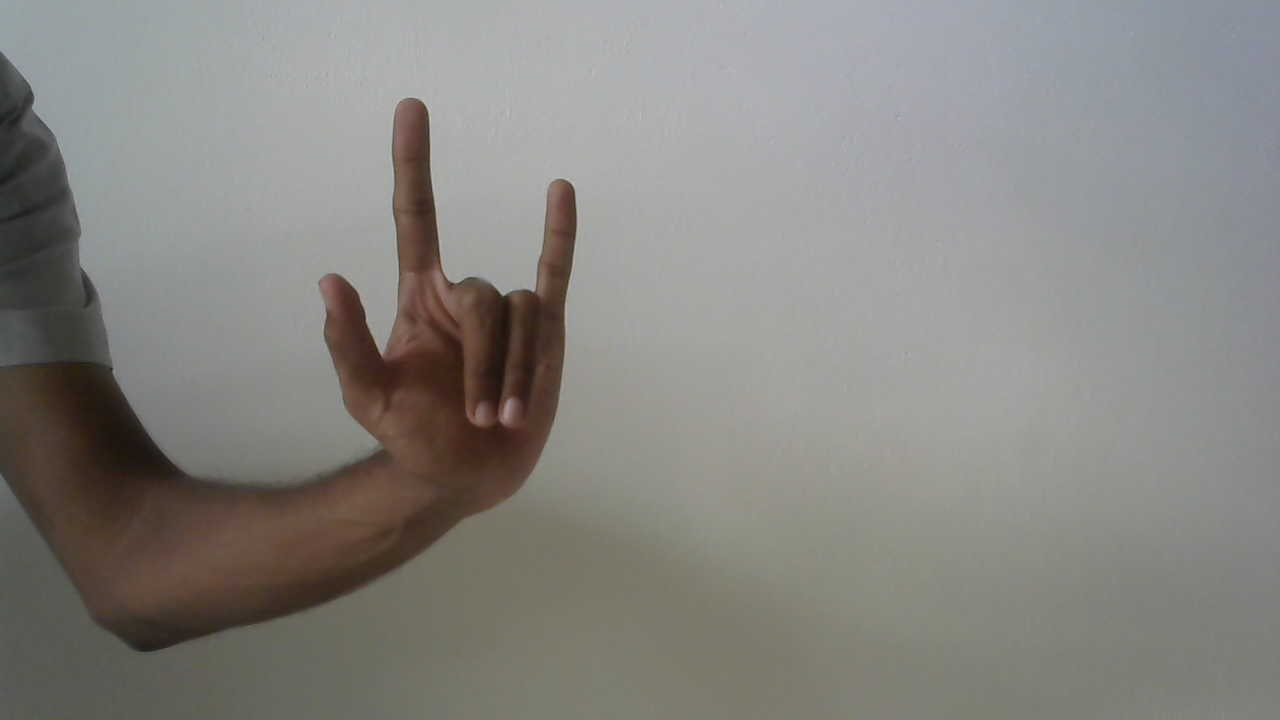iloveyou: (309, 90, 588, 510)
